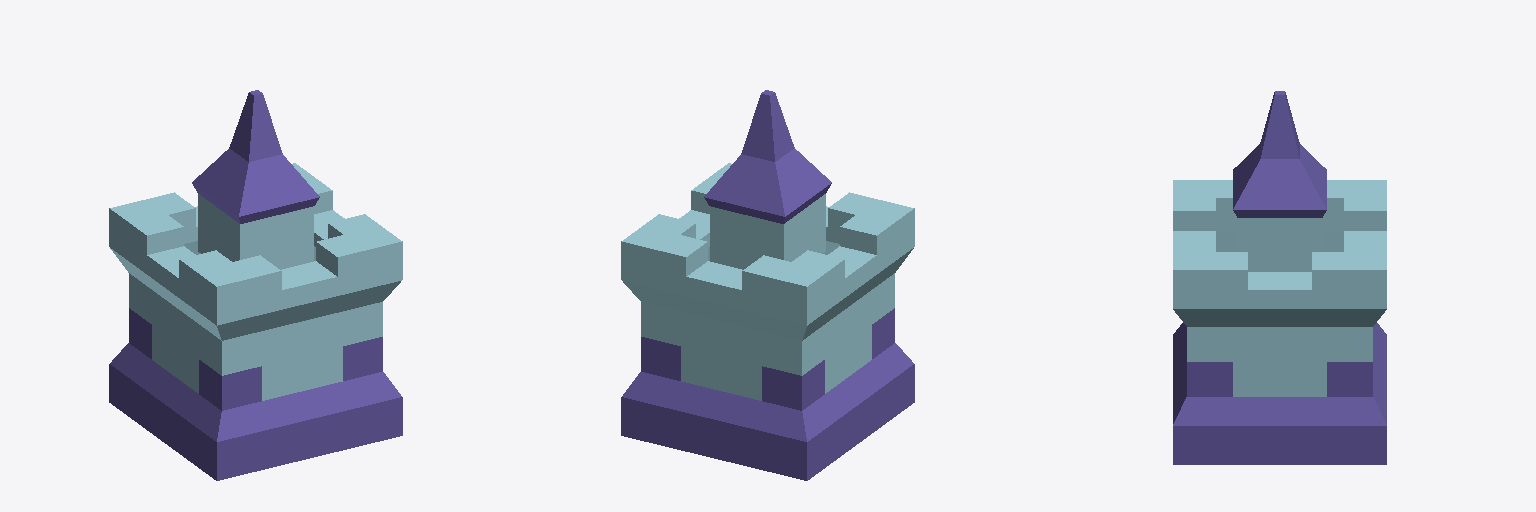
File: EnemyBeginTower.obj
3 views of the same model, side by side, from view 1: azimuth 30°, elevation 25°; view 2: azimuth 150°, elevation 25°; view 3: azimuth 270°, elevation 25° (orthographic).
Parts seen in each view (by area): view 1: towerSquare_sampleC; view 2: towerSquare_sampleC; view 3: towerSquare_sampleC.
Part boxes in pixels (left/top/right/bottom): towerSquare_sampleC: left=109, top=90, right=402, bottom=480; towerSquare_sampleC: left=621, top=90, right=914, bottom=480; towerSquare_sampleC: left=1173, top=91, right=1386, bottom=464.
Size of the model in its own units: 1 by 1.68 by 1.